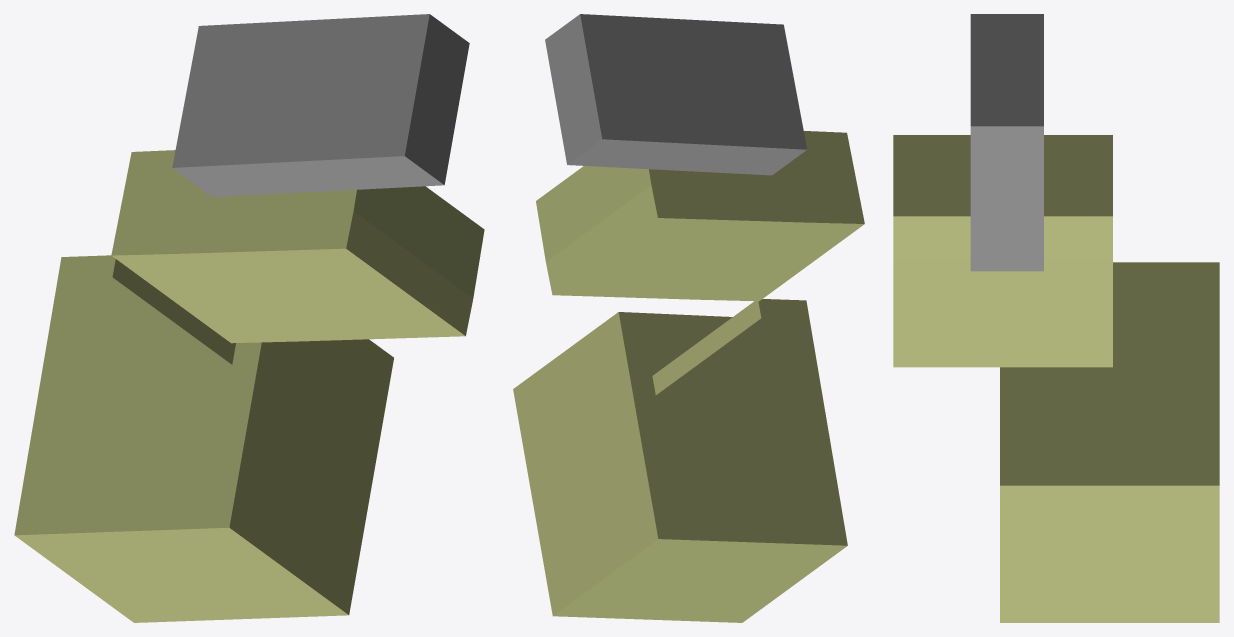
3 views of the same model, side by side, from view 1: azimuth 30°, elevation 25°; view 2: azimuth 150°, elevation 25°; view 3: azimuth 270°, elevation 25° (orthographic). The views are drawn at different scales.
Visible parts, largest first — view 1: 0_1_2_0_3_3_2_1_0_3; view 2: 0_1_2_0_3_3_2_1_0_3; view 3: 0_1_2_0_3_3_2_1_0_3.
Part boxes in pixels (x1,y1,x2,y2): 0_1_2_0_3_3_2_1_0_3: [14, 14, 484, 622]; 0_1_2_0_3_3_2_1_0_3: [513, 14, 864, 622]; 0_1_2_0_3_3_2_1_0_3: [893, 14, 1219, 622].
Size of the model in its own units: 13.87 by 25 by 13.37.
